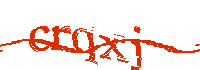c: (28, 23, 52, 54)
j: (129, 24, 144, 70)
q: (72, 25, 99, 66)
r: (51, 22, 71, 54)
x: (99, 30, 128, 63)
